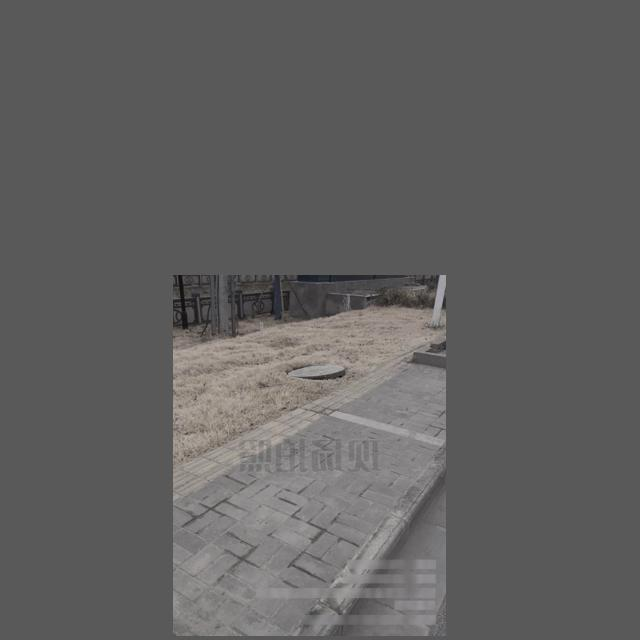uncovered: (289, 362, 347, 380)
